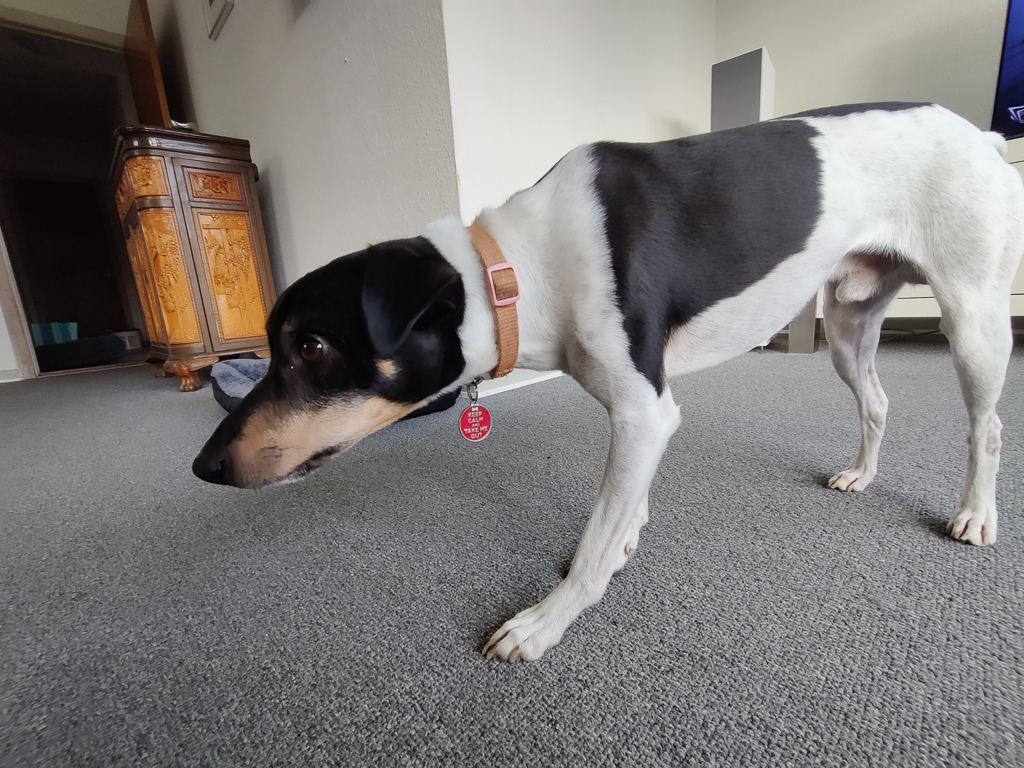Dog: (168, 83, 1024, 675)
